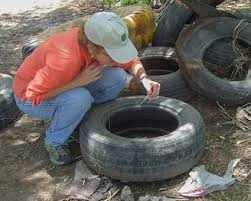tire: (82, 93, 208, 183), (89, 46, 201, 106), (178, 16, 251, 106)
